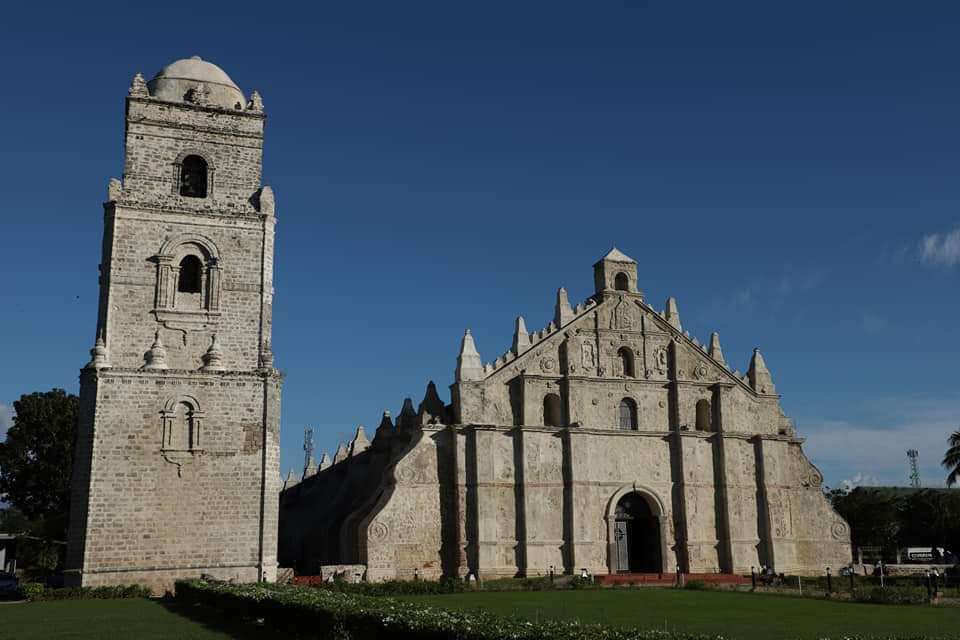paoay_church_paoay_ilocos_norte: (75, 41, 863, 593)
